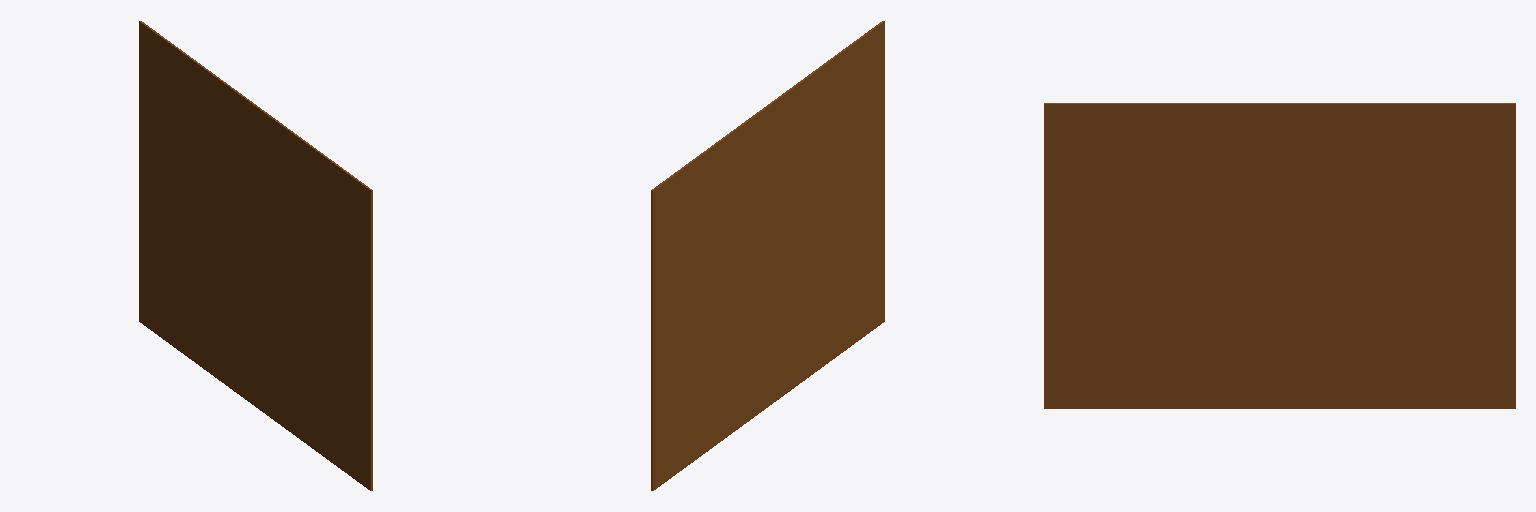
The robot description file, URDF, robot "wall.urdf":
<?xml version="1.0" ?>
<robot name="wall.urdf">
  <link name="wall">
    <contact>
      <lateral_friction value="1.0"/>
      <rolling_friction value="0.0"/>
      <contact_cfm value="0.0"/>
      <contact_erp value="1.0"/>
    </contact>
    <inertial>
      <origin rpy="0 0 0" xyz="0.0 0.02 0.0"/>
       <mass value="0.1"/>
       <inertia ixx="1" ixy="0" ixz="0" iyy="1" iyz="0" izz="1"/>
    </inertial>
    <visual>
      <origin rpy="0 0 0" xyz="0 0 0"/>
      <geometry>
        <box size="0.05 10.5 7.5"/>
      </geometry>
       <material name="yellow">
        <color rgba="0.55 0.35 0.17 1"/>
      </material>
    </visual>
    <collision>
      <origin rpy="0 0 0" xyz="0 0 0"/>
      <geometry>
        <box size="0.05 10.5 7.5"/>
      </geometry>
    </collision>
  </link>
</robot>

--- Render facts (derived) ---
3 views of the same robot in one strip: view 1: azimuth 30°, elevation 25°; view 2: azimuth 150°, elevation 25°; view 3: azimuth 270°, elevation 25° (orthographic).
Robot: wall.urdf — 1 links, 0 joints (none); root link wall; default pose: all joints at 0.
Visible links, largest first — view 1: wall; view 2: wall; view 3: wall.
Boxes of the visible links, left/top/right/bottom form: wall: left=139, top=21, right=372, bottom=490; wall: left=651, top=21, right=884, bottom=490; wall: left=1044, top=103, right=1515, bottom=408.
Size in the robot's own frame: 0.05 by 10.5 by 7.5 metres.
Geometry: primitives only (box / cylinder / sphere), no mesh files.